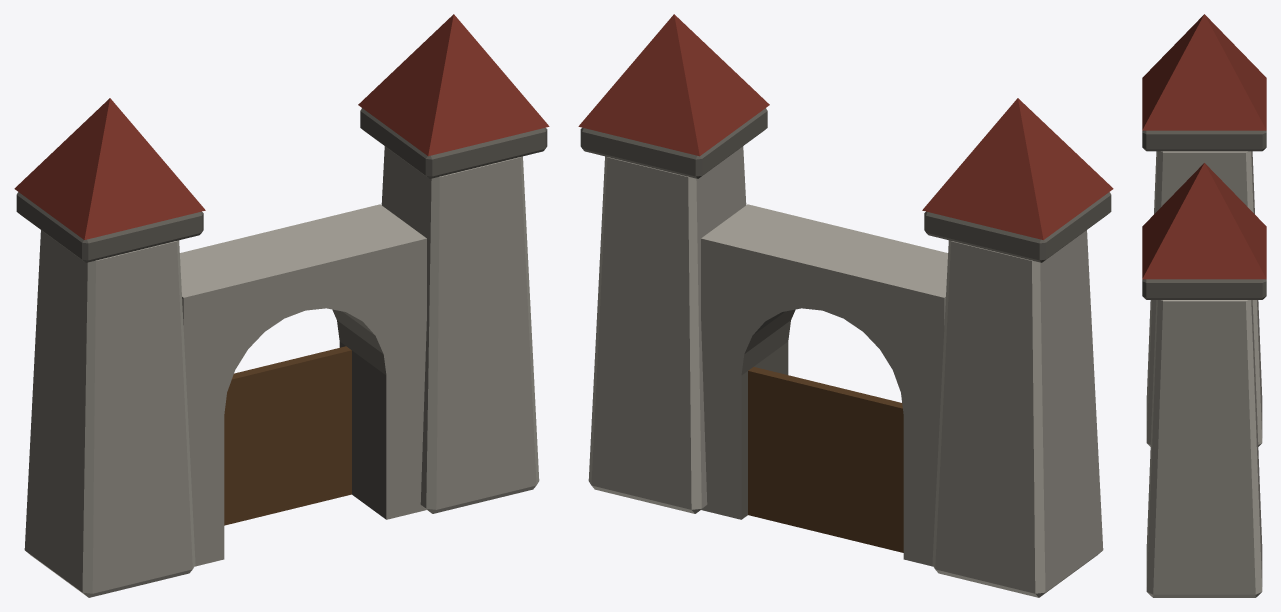
Rendered from gate.glb.
3 views of the same model, side by side, from view 1: azimuth 30°, elevation 25°; view 2: azimuth 150°, elevation 25°; view 3: azimuth 270°, elevation 25° (orthographic). The views are drawn at different scales.
Parts seen in each view (by area): view 1: right_tower/shaft, arch, left_tower/shaft, door, left_tower/roof, right_tower/roof, right_tower/ledge, left_tower/ledge; view 2: right_tower/shaft, arch, left_tower/shaft, door, left_tower/roof, right_tower/roof, right_tower/ledge, left_tower/ledge; view 3: left_tower/shaft, left_tower/roof, right_tower/roof, right_tower/shaft, right_tower/ledge, left_tower/ledge.
Boxes of the visible parts, x1=… form: right_tower/shaft: x1=24, y1=230, x2=195, y2=597; arch: x1=180, y1=204, x2=426, y2=566; left_tower/shaft: x1=381, y1=146, x2=539, y2=513; door: x1=224, y1=346, x2=351, y2=525; left_tower/roof: x1=358, y1=14, x2=549, y2=156; right_tower/roof: x1=14, y1=98, x2=205, y2=239; right_tower/ledge: x1=16, y1=192, x2=203, y2=262; left_tower/ledge: x1=360, y1=108, x2=547, y2=178; right_tower/shaft: x1=932, y1=230, x2=1103, y2=597; arch: x1=701, y1=204, x2=947, y2=566; left_tower/shaft: x1=588, y1=146, x2=746, y2=513; door: x1=748, y1=367, x2=903, y2=552; left_tower/roof: x1=578, y1=14, x2=769, y2=156; right_tower/roof: x1=922, y1=98, x2=1113, y2=239; right_tower/ledge: x1=924, y1=192, x2=1111, y2=262; left_tower/ledge: x1=580, y1=108, x2=767, y2=178; left_tower/shaft: x1=1146, y1=300, x2=1262, y2=597; left_tower/roof: x1=1142, y1=163, x2=1266, y2=279; right_tower/roof: x1=1142, y1=14, x2=1266, y2=130; right_tower/shaft: x1=1146, y1=151, x2=1262, y2=446; right_tower/ledge: x1=1142, y1=130, x2=1266, y2=151; left_tower/ledge: x1=1142, y1=279, x2=1266, y2=299.
Size of the model in its own units: 5.74 by 5.5 by 1.5.
